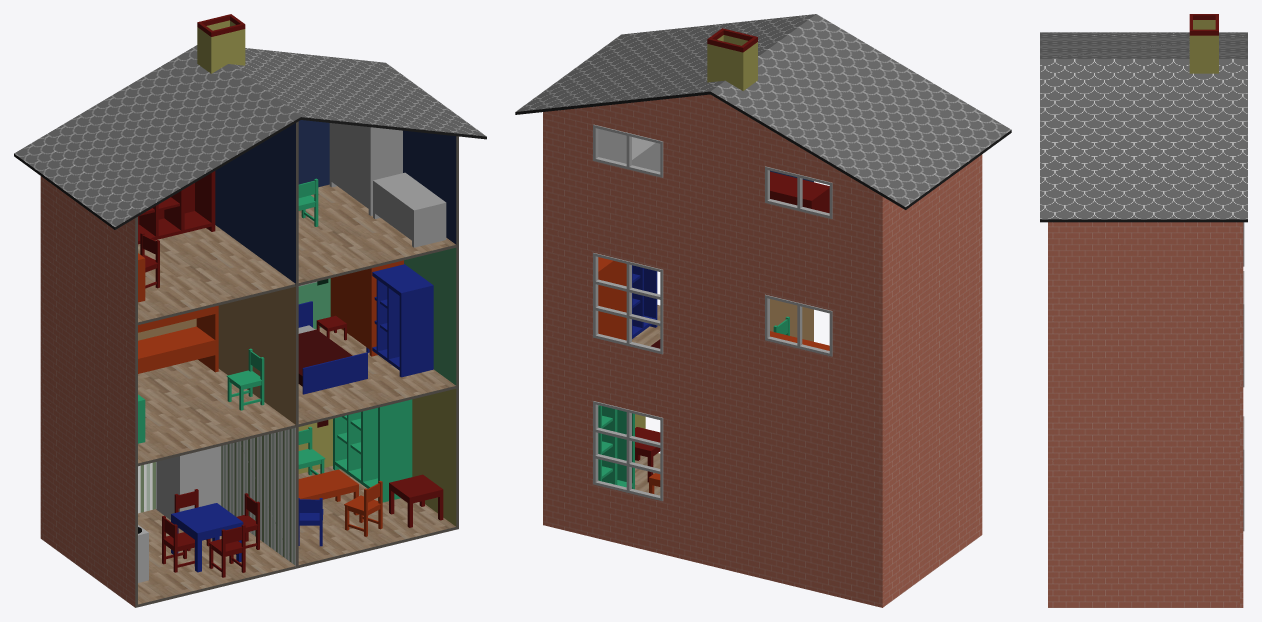
The model's file is doll-house.obj.
The picture shows the model from 3 angles, left to right: view 1: azimuth 30°, elevation 25°; view 2: azimuth 150°, elevation 25°; view 3: azimuth 270°, elevation 25°; orthographic projection. The views are drawn at different scales.
Parts seen in each view (by area): view 1: floors_Cube.005, roof.001_Cube.006, external-walls_Cube.003, walls-inner_Cube.002, Cube.005_Cube.011, Cube.016_Cube.042, Cube.010_Cube.034, Cube.008_Cube.031, back-inner_Cube.010, Cube.009_Cube.032, Cube.006_Cube.028, Cube.003_Cube.026 (+20 smaller); view 2: back-external-wall_Cube.001, roof.001_Cube.006, external-walls_Cube.003, Cube.019_Cube.004, windows-first-right_Plane.003, base-window_Plane.004, Cube.016_Cube.042, Cube.011_Cube.035, roof_Cube, Cube.007_Cube.029, Cube.010_Cube.034, walls-inner_Cube.002 (+7 smaller); view 3: external-walls_Cube.003, roof.001_Cube.006, Cube.019_Cube.004, back-external-wall_Cube.001, roof_Cube.
Boxes of the visible parts, box(x1,y1,x2,y2) form: floors_Cube.005: box(138, 184, 456, 607); roof.001_Cube.006: box(14, 45, 486, 226); external-walls_Cube.003: box(42, 177, 135, 607); walls-inner_Cube.002: box(135, 121, 458, 607); Cube.005_Cube.011: box(221, 427, 295, 568); Cube.016_Cube.042: box(333, 399, 412, 502); Cube.010_Cube.034: box(366, 264, 433, 377); Cube.008_Cube.031: box(329, 123, 402, 215); back-inner_Cube.010: box(138, 120, 332, 473); Cube.009_Cube.032: box(373, 172, 446, 247); Cube.006_Cube.028: box(138, 305, 218, 373); Cube.003_Cube.026: box(156, 446, 221, 519); back-external-wall_Cube.001: box(543, 94, 884, 607); roof.001_Cube.006: box(516, 14, 1011, 207); external-walls_Cube.003: box(884, 154, 982, 606); Cube.019_Cube.004: box(707, 28, 757, 90); windows-first-right_Plane.003: box(593, 253, 663, 354); base-window_Plane.004: box(593, 401, 663, 501); Cube.016_Cube.042: box(598, 405, 634, 489); Cube.011_Cube.035: box(598, 257, 626, 340); roof_Cube: box(515, 91, 1011, 209); Cube.007_Cube.029: box(770, 171, 829, 213); Cube.010_Cube.034: box(632, 265, 657, 338); walls-inner_Cube.002: box(635, 170, 813, 428); external-walls_Cube.003: box(1048, 222, 1239, 607); roof.001_Cube.006: box(1040, 32, 1247, 219); Cube.019_Cube.004: box(1189, 14, 1218, 73); back-external-wall_Cube.001: box(1240, 222, 1243, 607); roof_Cube: box(1040, 219, 1247, 222).
Bounding box in the file's own units: 69 × 86.78 × 32.42.
Materials: 22 (4 with a texture image).
